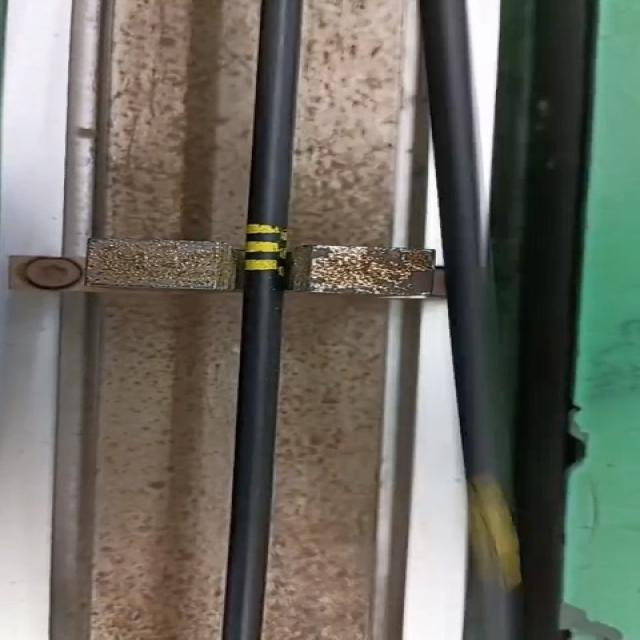yellow: (247, 225, 282, 270)
